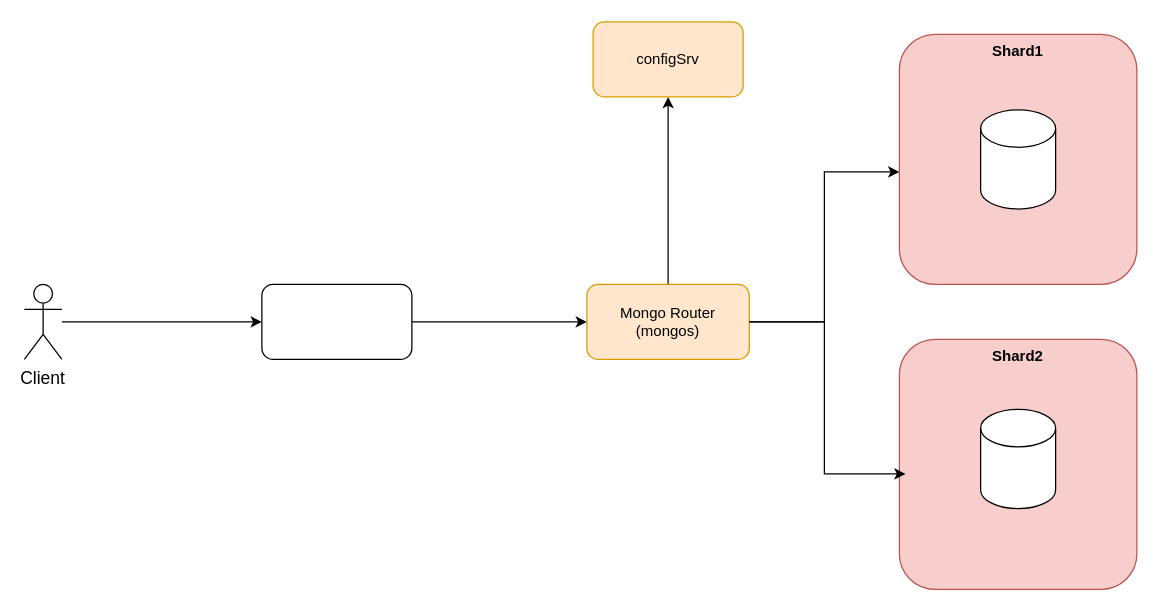
The diagram is 1160 pixels wide and 611 high, and some of its shapes have lost their labels. The box of each missing label's shape, as (x1, y1, x2, y2) in pixels:
pymongo-api: (261, 283, 412, 359)
shard1-1: (979, 108, 1056, 209)
shard2-1: (979, 408, 1056, 509)
